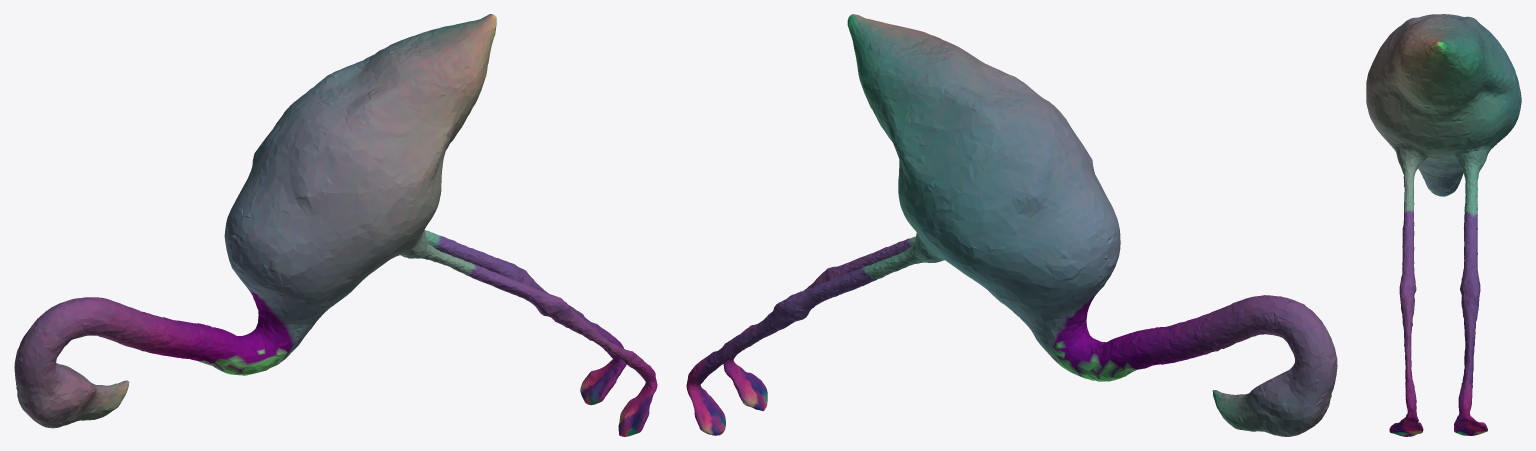
Rendered from flamingo-10.off.obj.
3 renders of one model, left to right at view 1: azimuth 30°, elevation 25°; view 2: azimuth 150°, elevation 25°; view 3: azimuth 270°, elevation 25°, orthographic. The views are drawn at different scales.
Bounding box in the file's own units: 1.54 × 1.02 × 0.4107.
